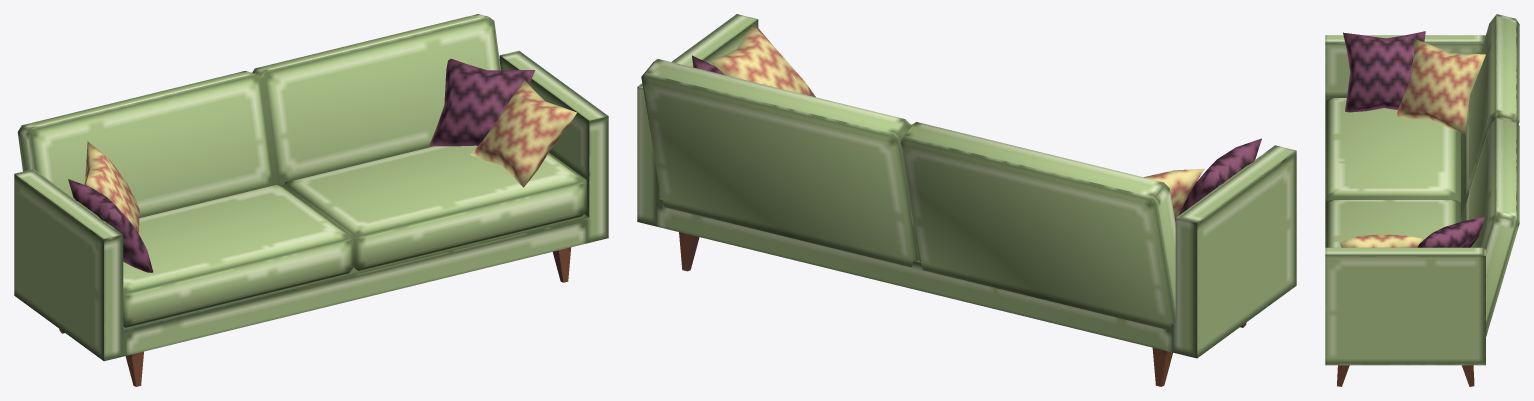
The model's file is SM_Couch.fbx.
3 views of the same model, side by side, from view 1: azimuth 30°, elevation 25°; view 2: azimuth 150°, elevation 25°; view 3: azimuth 270°, elevation 25° (orthographic). The views are drawn at different scales.
Visible parts, largest first — view 1: Couch.001; view 2: Couch.001; view 3: Couch.001.
Boxes of the visible parts, left/top/right/bottom form: Couch.001: left=14, top=14, right=608, bottom=386; Couch.001: left=637, top=14, right=1296, bottom=386; Couch.001: left=1325, top=14, right=1519, bottom=386.
Bounding box in the file's own units: 325 × 122 × 121.
